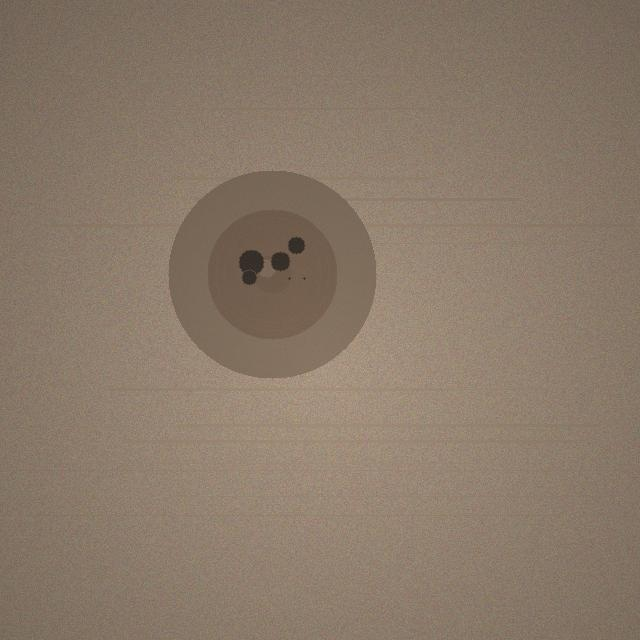shrinkage: (168, 170, 376, 378)
